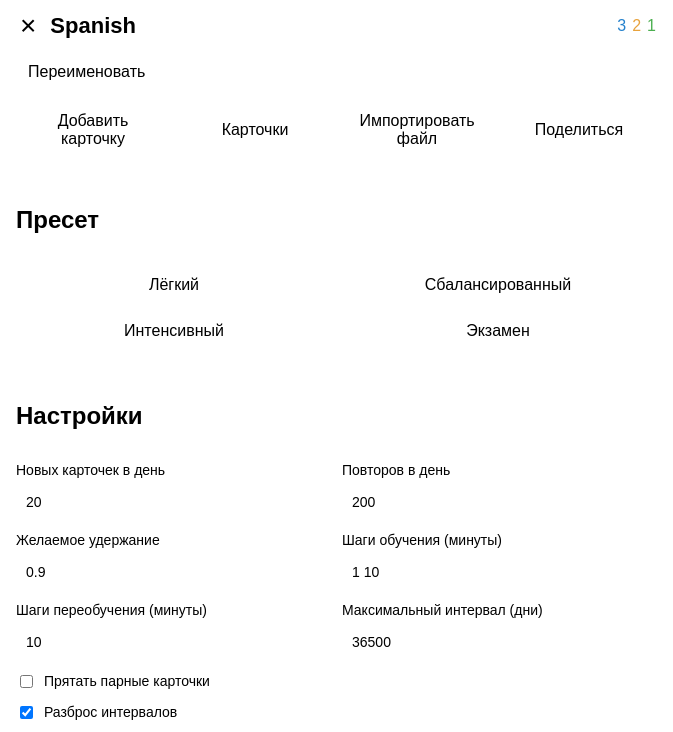
Test case: deck management › shows a hint when sharing is unavailable
Click the button "Поделиться": (579, 130) [502, 102, 656, 158]
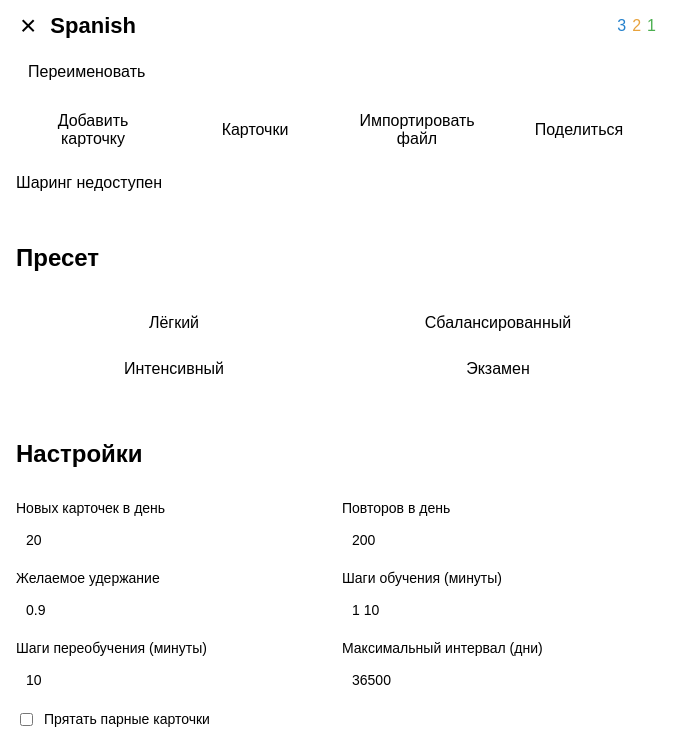
Check: the message reads "Шаринг недоступен", box [16, 174, 162, 191]
